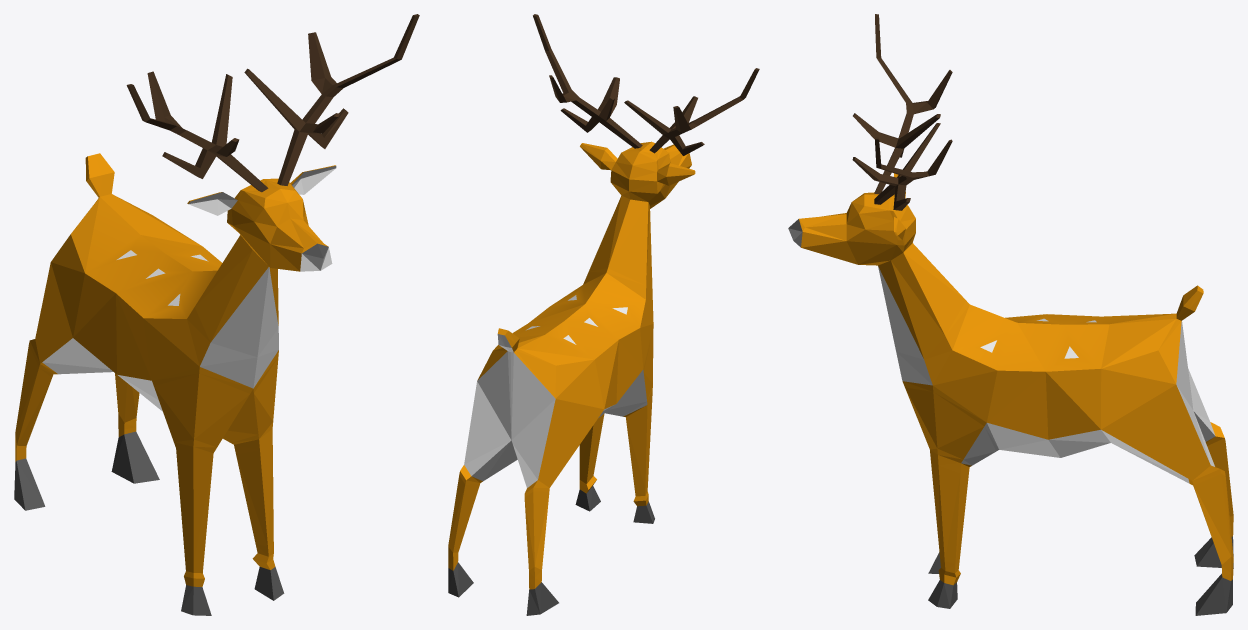
The model's file is deer.fbx.
The picture shows the model from 3 angles, left to right: view 1: azimuth 30°, elevation 25°; view 2: azimuth 150°, elevation 25°; view 3: azimuth 270°, elevation 25°; orthographic projection. The views are drawn at different scales.
Parts seen in each view (by area): view 1: deer_1; view 2: deer_1; view 3: deer_1.
Boxes of the visible parts, x1,y1,x2,y2 form: deer_1: [14, 14, 419, 615]; deer_1: [448, 14, 759, 615]; deer_1: [788, 14, 1233, 615].
Size of the model in its own units: 10.92 by 20.85 by 16.42.
